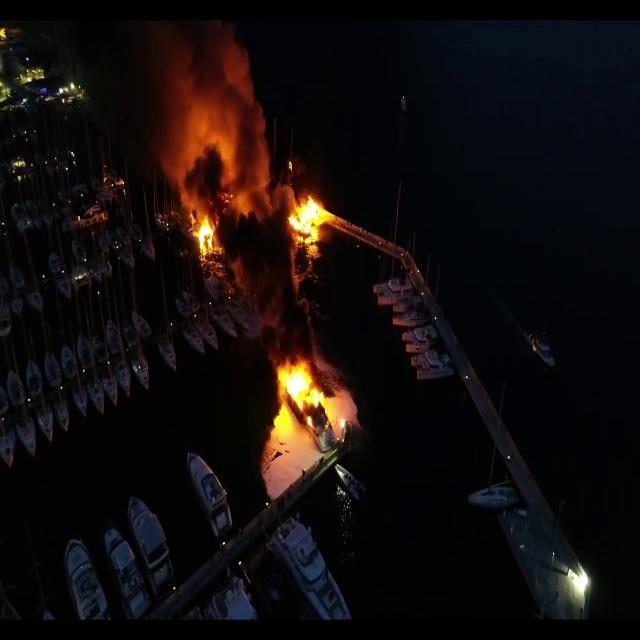Fire: (271, 350, 356, 446), (285, 186, 337, 250), (190, 208, 222, 265)
Smoke: (146, 21, 272, 197)
